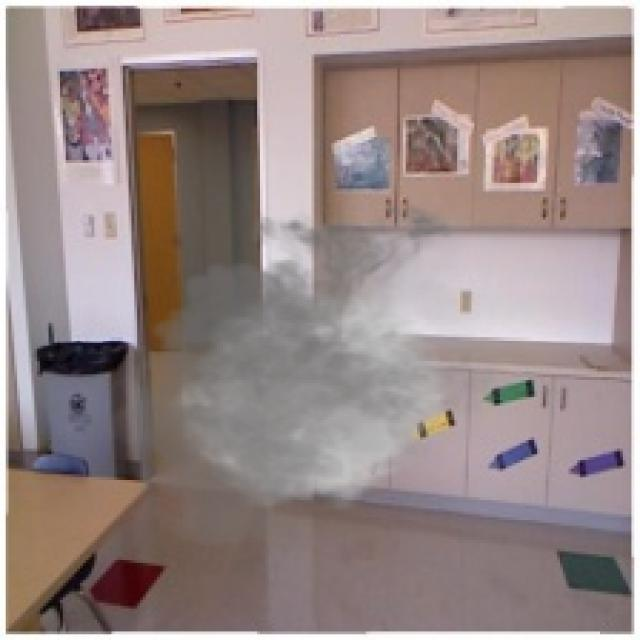Smoke: (97, 191, 523, 560)
